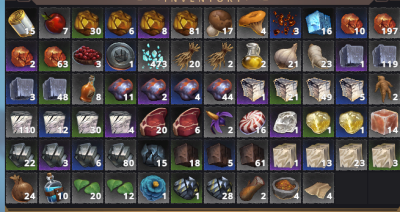aurelium ore: (71, 7, 103, 39), (137, 6, 169, 38), (171, 7, 202, 38), (105, 8, 135, 38)
chaos ember: (270, 8, 300, 38)
copper ore: (336, 7, 367, 38), (5, 40, 36, 71), (369, 8, 399, 38), (39, 40, 69, 70)
diamond gem: (270, 107, 300, 137)
ethereal dust: (137, 39, 169, 71)
granite stone: (336, 40, 367, 71), (368, 40, 399, 71), (5, 74, 35, 104), (40, 73, 69, 102)
iron ore: (104, 73, 135, 104), (172, 74, 203, 105), (137, 74, 167, 104), (205, 74, 234, 103)
limestone stone: (236, 74, 267, 105), (302, 74, 333, 105), (336, 75, 367, 106), (270, 74, 300, 104)
marble stone: (38, 106, 70, 138), (71, 106, 103, 138), (6, 106, 37, 137), (105, 106, 136, 137)
silver ore: (6, 139, 37, 170), (72, 139, 103, 170), (39, 140, 69, 170), (105, 139, 135, 169)
slate stone: (204, 139, 235, 170), (171, 139, 201, 169), (237, 139, 267, 169)
spruce log: (237, 172, 268, 203)
tin ore: (171, 171, 202, 202), (204, 172, 235, 203)
topaz gem: (336, 107, 368, 139), (302, 107, 332, 137)
travertine stone: (270, 140, 301, 171), (303, 140, 334, 171), (336, 141, 366, 171), (369, 140, 399, 170)
